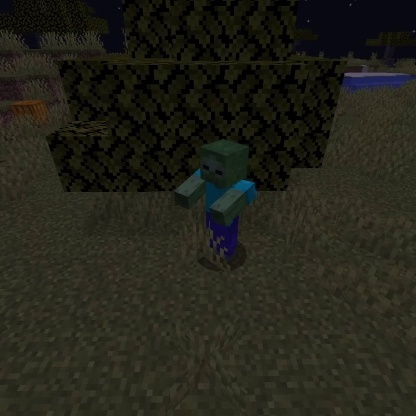zombie: (170, 136, 261, 268)
